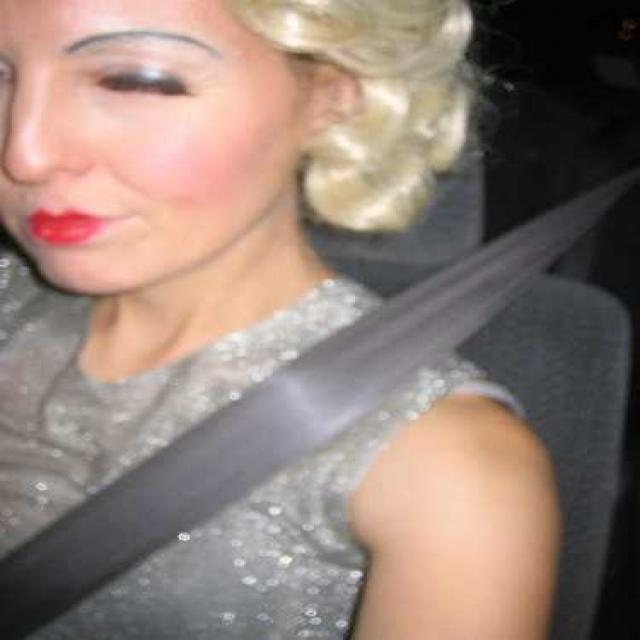seatbelt: (42, 194, 608, 550)
